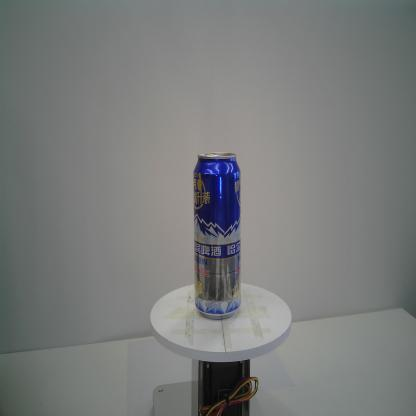Alcohol: (192, 151, 242, 322)
